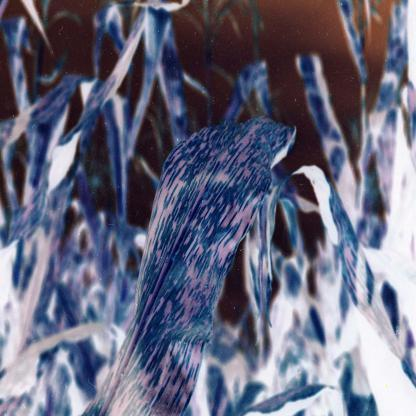Corn Gray leaf spot: (85, 114, 307, 416)
